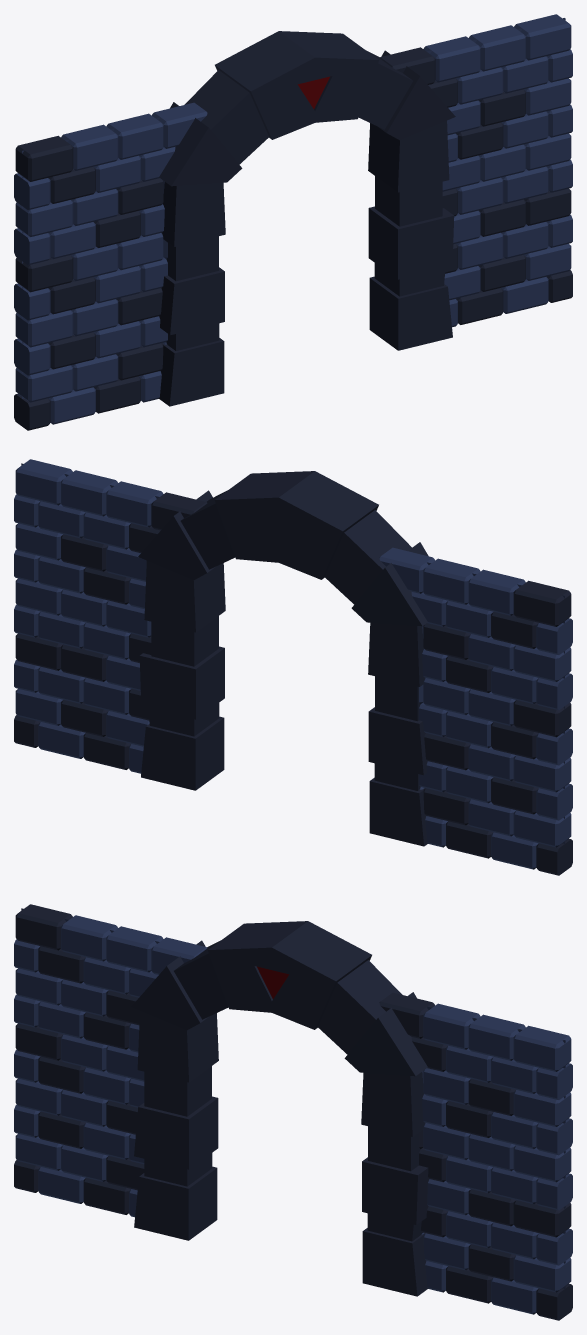
The model's file is brickwallwithbars.obj.
The picture shows the model from 3 angles, top to bottom: view 1: azimuth 30°, elevation 25°; view 2: azimuth 150°, elevation 25°; view 3: azimuth 330°, elevation 25°; orthographic projection.
Visible parts, largest first — view 1: brick_wall_with_bars; view 2: brick_wall_with_bars; view 3: brick_wall_with_bars.
Boxes of the visible parts, x1,y1,x2,y2 form: brick_wall_with_bars: [14, 14, 572, 430]; brick_wall_with_bars: [14, 459, 572, 875]; brick_wall_with_bars: [14, 904, 572, 1320].
Size of the model in its own units: 6.32 by 3.54 by 0.7309.
